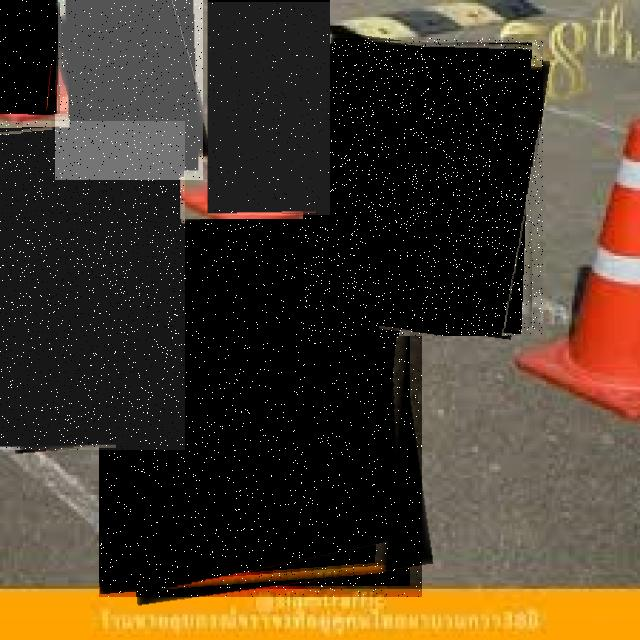Traffic-cone: (99, 219, 422, 597), (303, 38, 543, 336), (0, 121, 185, 450), (55, 0, 203, 180), (208, 2, 330, 215), (0, 0, 58, 114)
